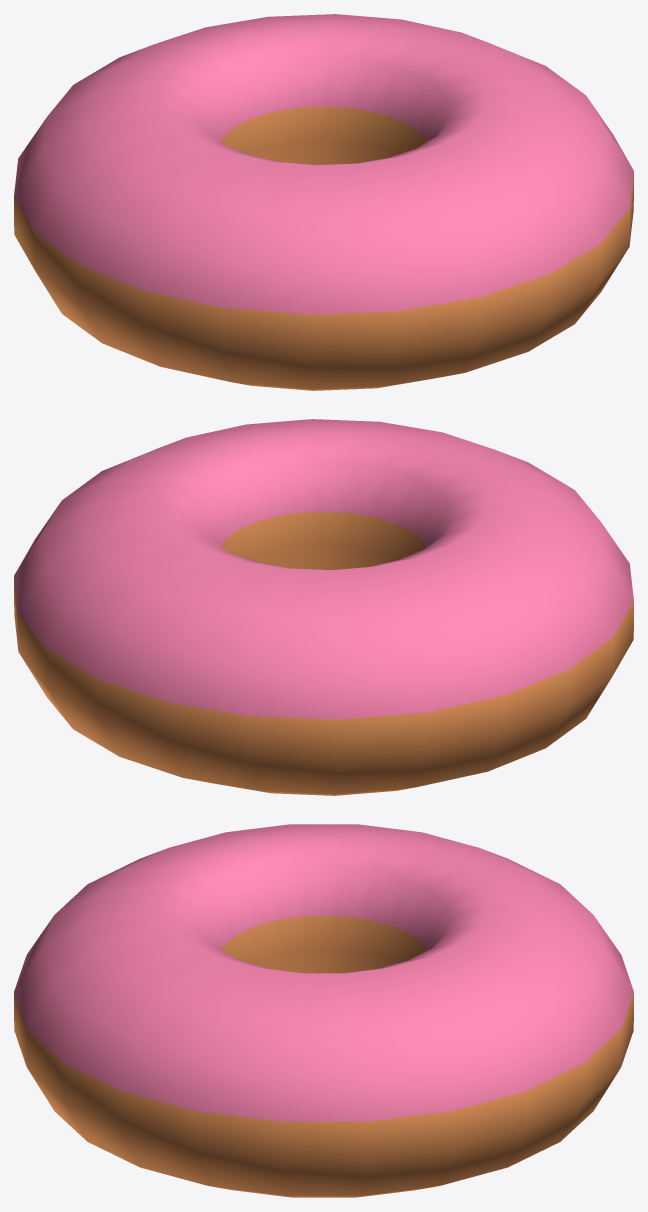
File: doughnut.fbx
The picture shows the model from 3 angles, top to bottom: view 1: azimuth 30°, elevation 25°; view 2: azimuth 150°, elevation 25°; view 3: azimuth 270°, elevation 25°; orthographic projection.
Visible parts, largest first — view 1: Cylinder; view 2: Cylinder; view 3: Cylinder.
Boxes of the visible parts, x1=… form: Cylinder: x1=14, y1=14, x2=633, y2=390; Cylinder: x1=14, y1=419, x2=633, y2=795; Cylinder: x1=14, y1=824, x2=633, y2=1197.
Bounding box in the file's own units: 398 × 152 × 402.
1 material, 1 textured.
